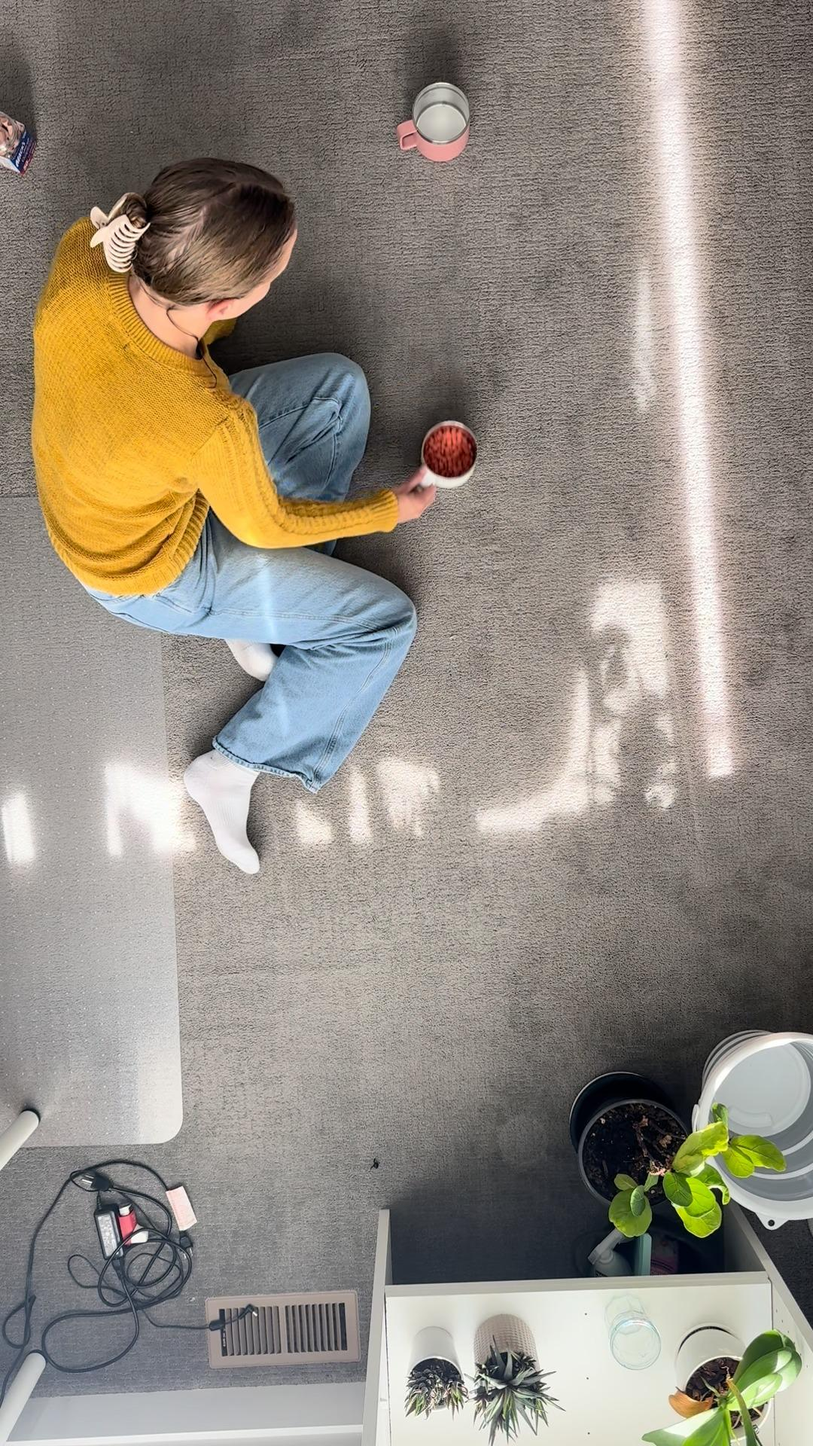IBC: (394, 73, 476, 171), (412, 414, 487, 498)
